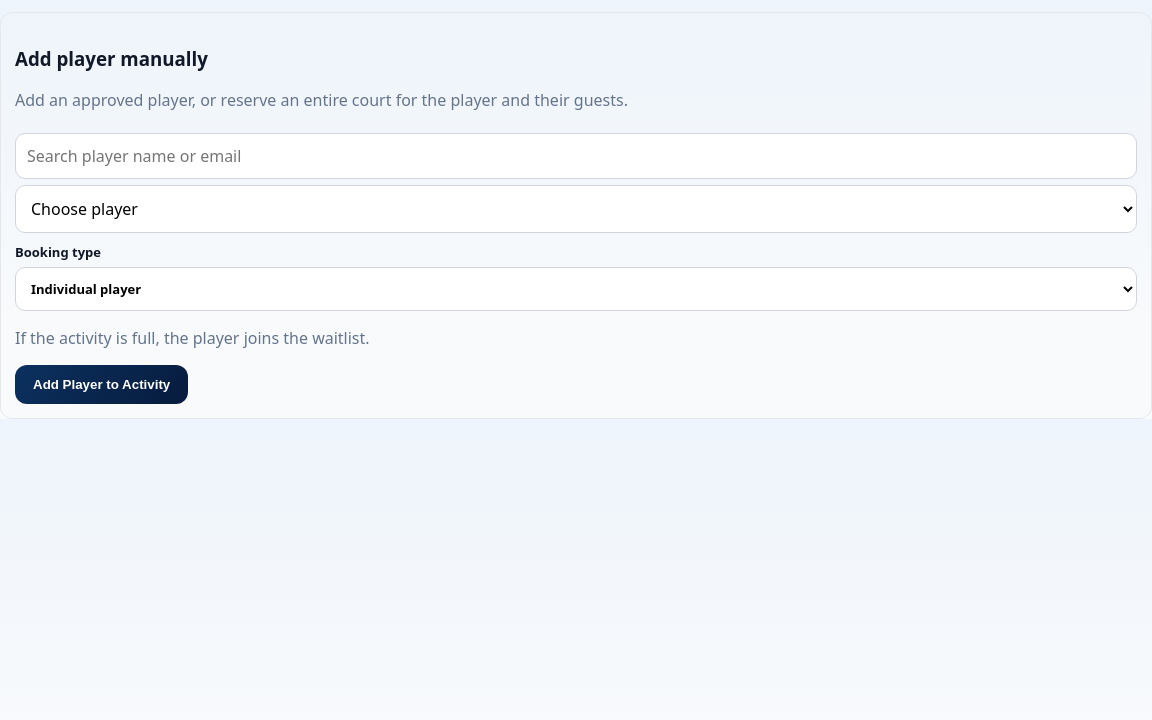
Test: manual activity additions › reserves the chosen court for the selected player and guests without an individual registration
The width and height of the screenshot is (1152, 720).
Type "Ankit" into the field labelled "Search player name or email" at (576, 156), box [15,133,1137,179]
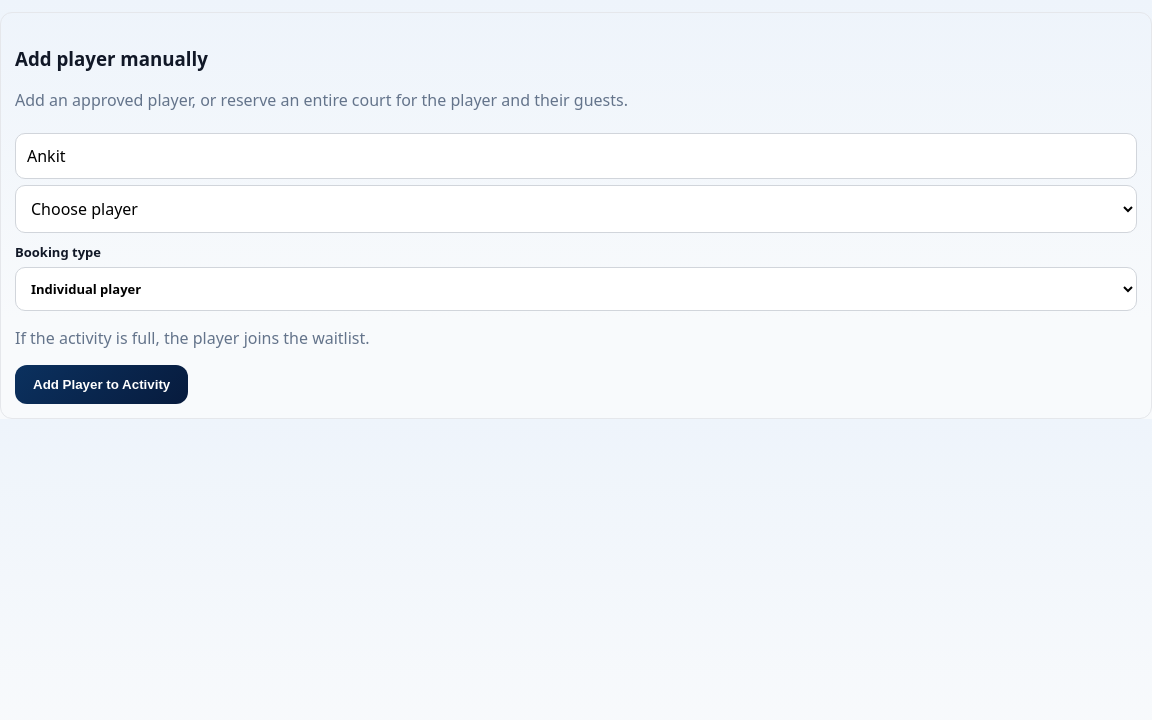
Select "Ankit · ankit@example.com" in the dropdown named "Select player to add" at (576, 209), box [15,185,1137,233]
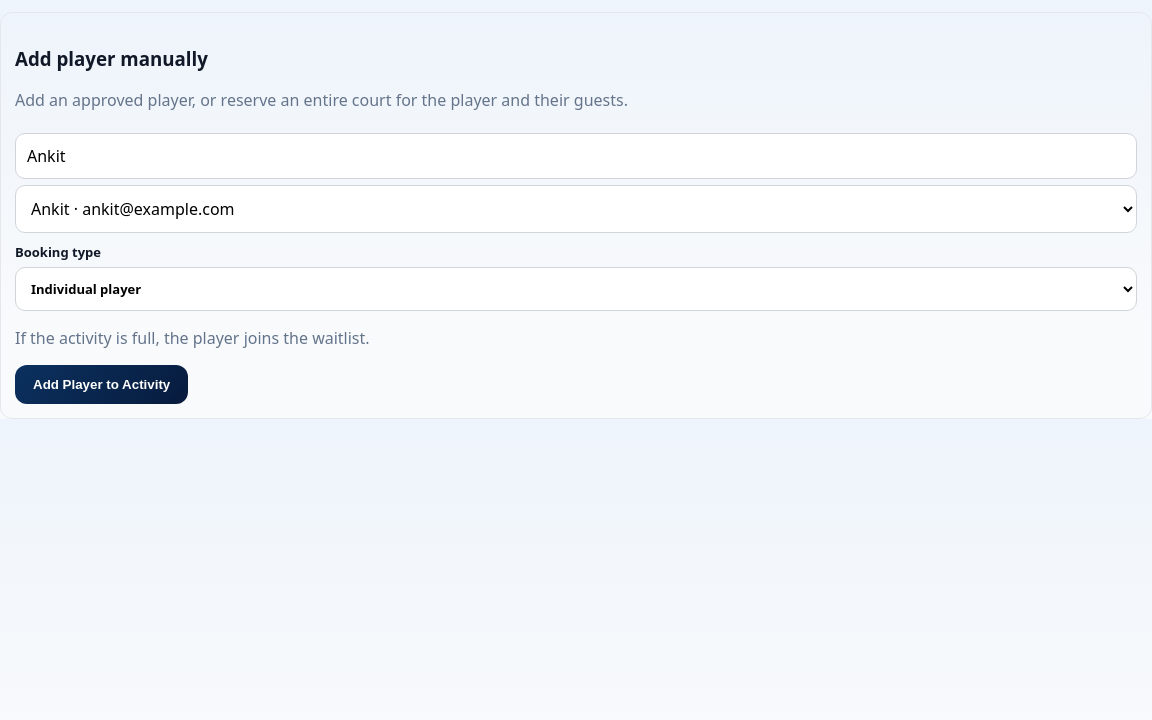
Select "Entire court — player + guests" in the dropdown labelled "Booking type" at (576, 289), box [15,267,1137,311]
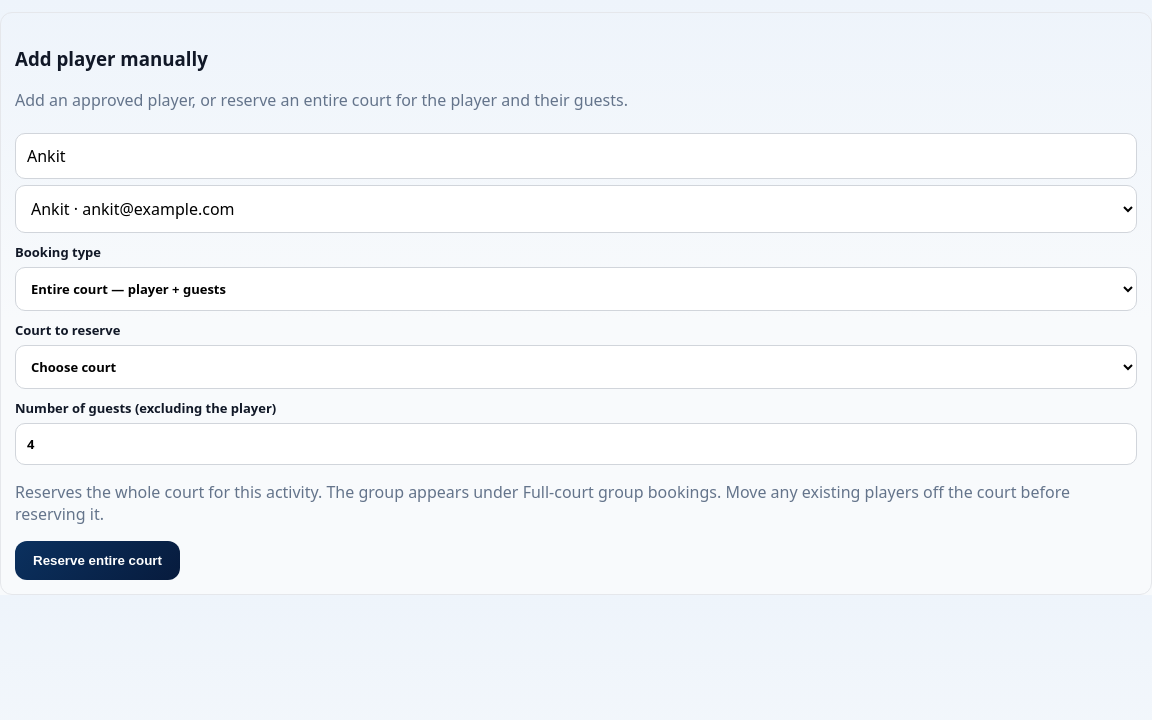
Select "Court 2" in the dropdown labelled "Court to reserve" at (576, 367), box [15,345,1137,389]
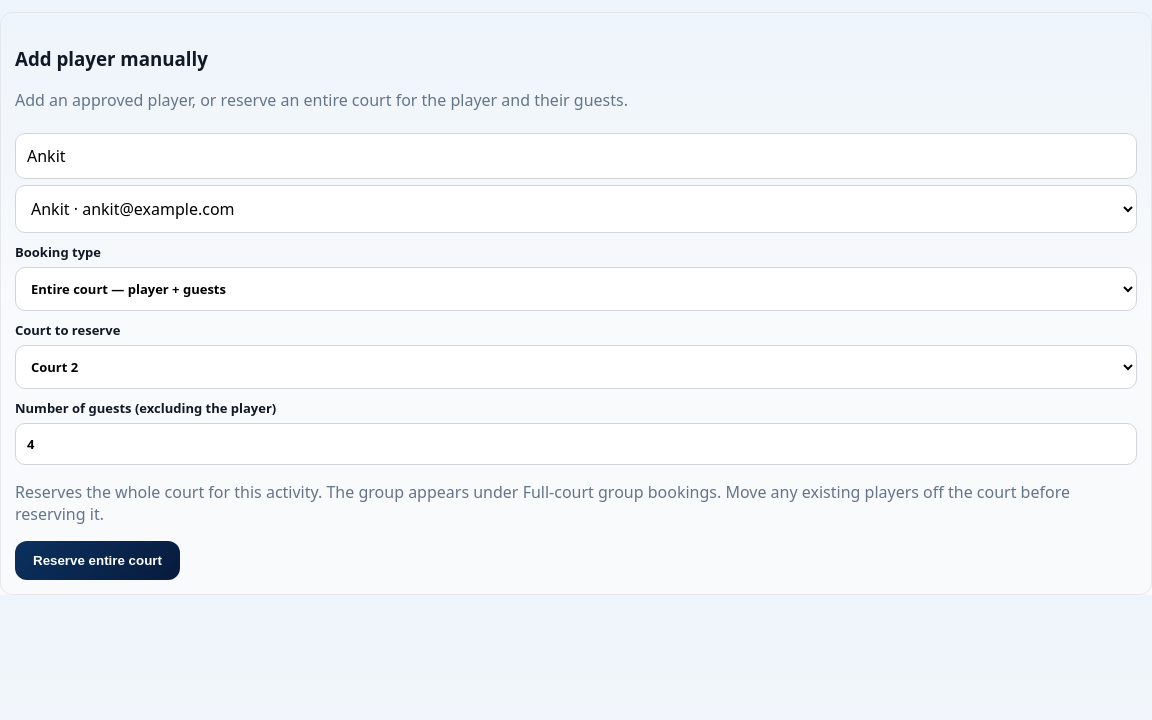
Click the button "Reserve entire court" at (97, 561), box [15,541,180,580]
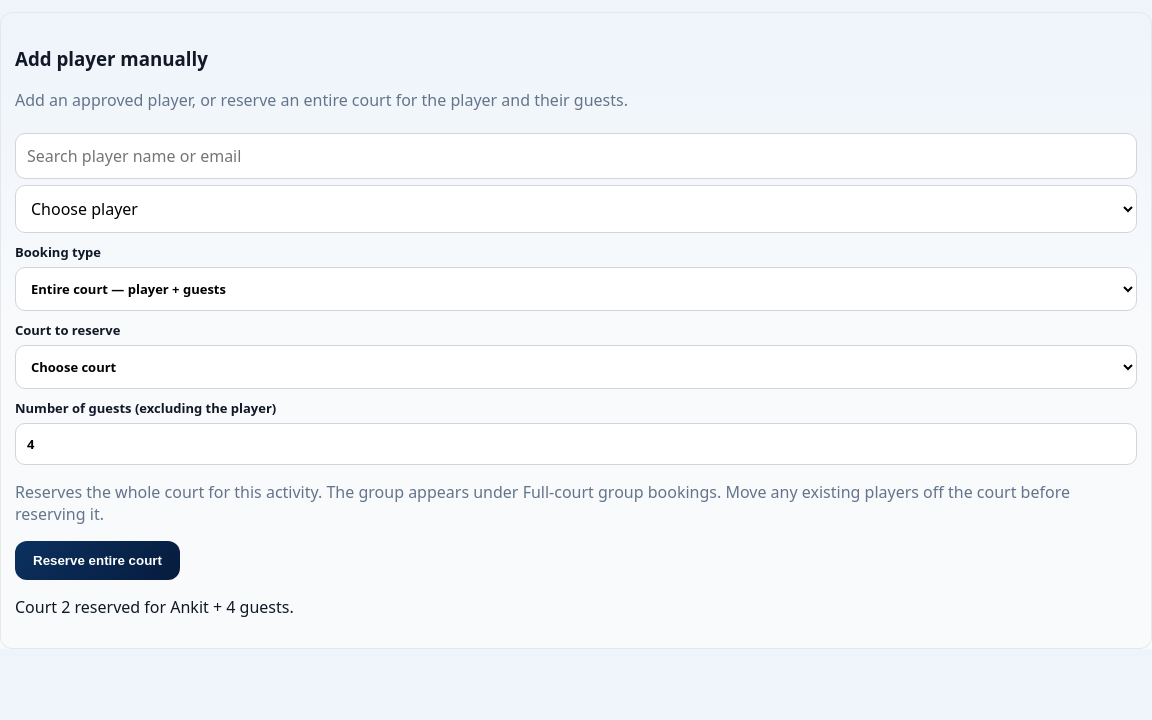
expect the message reads "Court 2 reserved for Ankit + 4 guests.": met, box [15,596,294,618]
